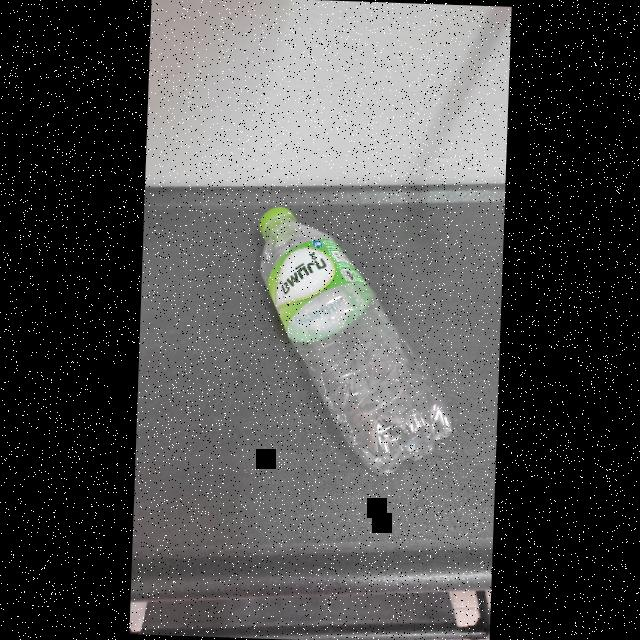plastic_bottle: (233, 199, 473, 495)
plastic_bottle_cap: (256, 204, 290, 242)
